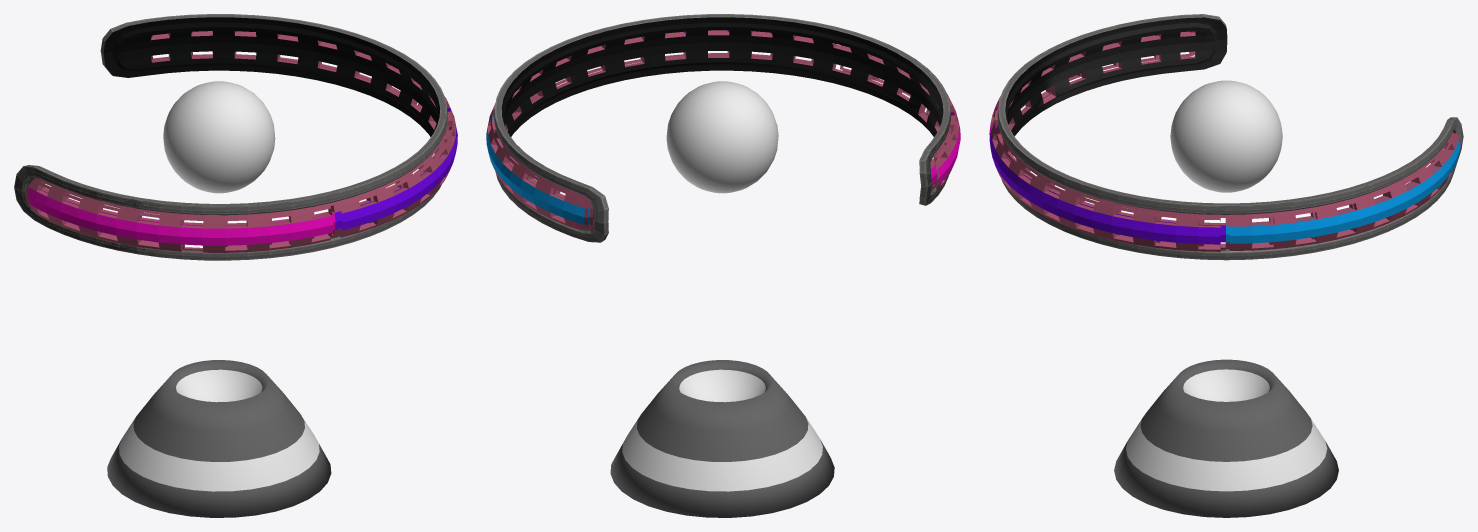
Rendered from cilindro.fbx.
The picture shows the model from 3 angles, left to right: view 1: azimuth 30°, elevation 25°; view 2: azimuth 150°, elevation 25°; view 3: azimuth 270°, elevation 25°; orthographic projection.
Parts seen in each view (by area): view 1: Sphere, Cylinder, Sphere.002, Sphere.001, Sphere.003, Sphere.004; view 2: Sphere, Cylinder, Sphere.001, Sphere.004, Sphere.002, Sphere.003; view 3: Cylinder, Sphere, Sphere.001, Sphere.003, Sphere.004, Sphere.002.
Part boxes in pixels (bbox=[...]): Sphere: bbox=[14, 14, 449, 260]; Cylinder: bbox=[107, 360, 331, 517]; Sphere.002: bbox=[25, 181, 333, 252]; Sphere.001: bbox=[163, 81, 275, 193]; Sphere.003: bbox=[340, 97, 457, 237]; Sphere.004: bbox=[151, 31, 417, 104]; Sphere: bbox=[494, 14, 952, 242]; Cylinder: bbox=[610, 360, 834, 517]; Sphere.001: bbox=[666, 81, 778, 193]; Sphere.004: bbox=[486, 103, 588, 230]; Sphere.002: bbox=[840, 45, 960, 190]; Sphere.003: bbox=[530, 30, 813, 100]; Cylinder: bbox=[1114, 359, 1338, 517]; Sphere: bbox=[995, 14, 1463, 260]; Sphere.001: bbox=[1170, 80, 1282, 192]; Sphere.003: bbox=[989, 122, 1220, 251]; Sphere.004: bbox=[1229, 132, 1460, 251]; Sphere.002: bbox=[989, 31, 1194, 136].
Bounding box in the file's own units: 2.26 × 2.26 × 2.03.
